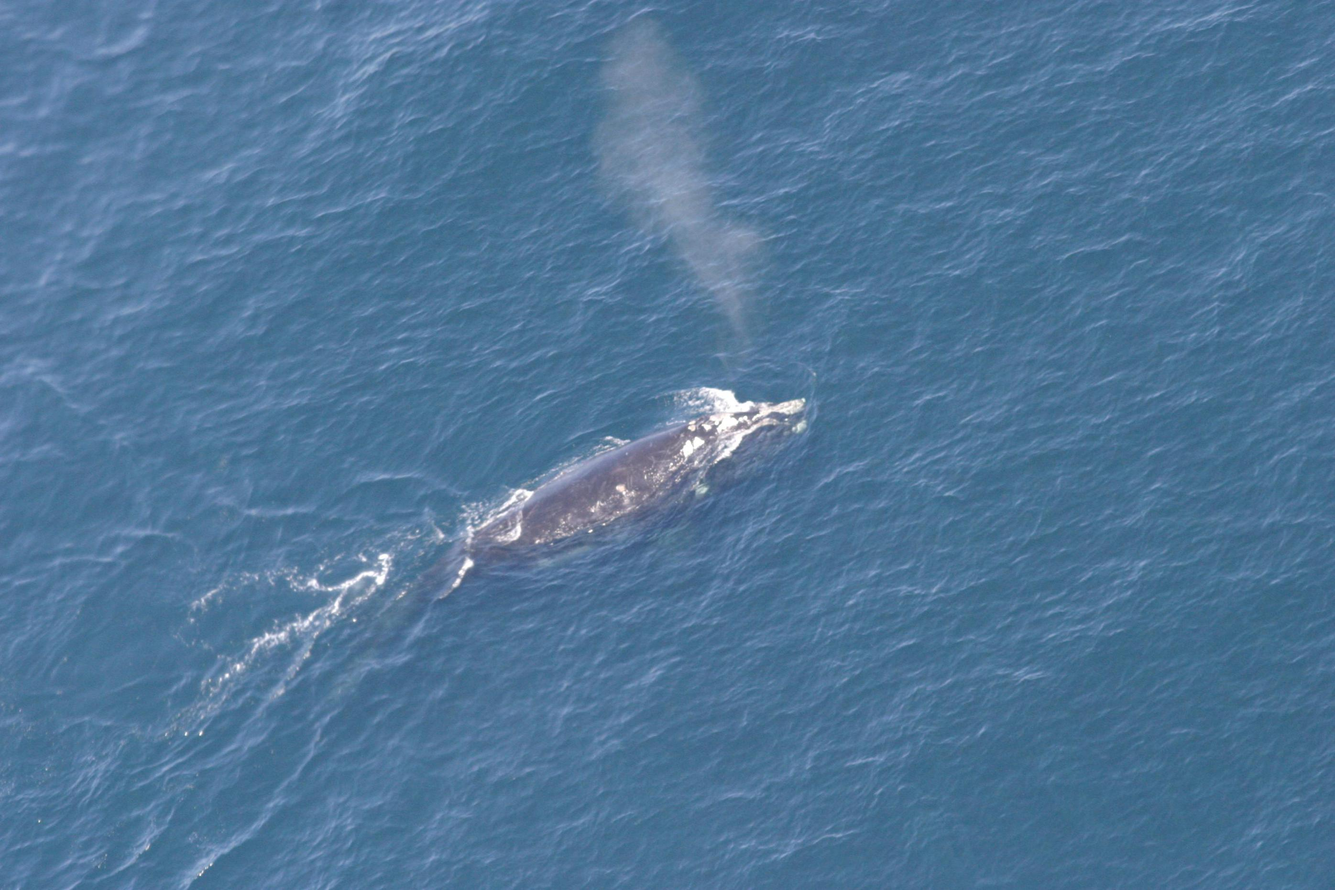whale: (280, 381, 830, 695)
